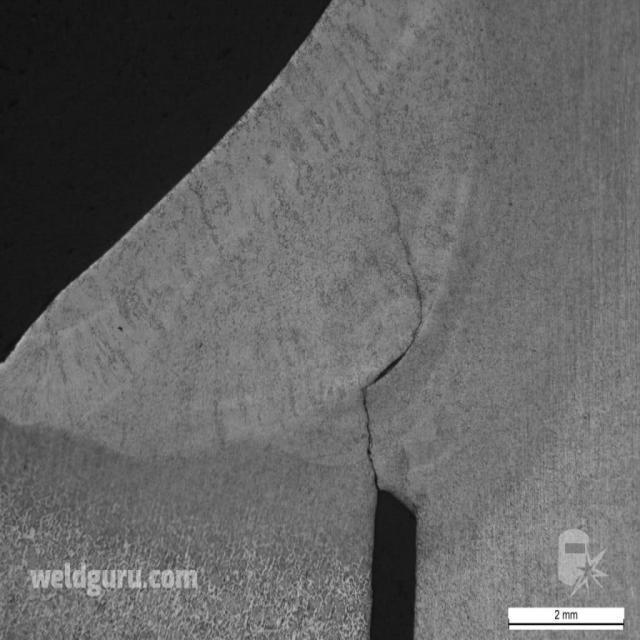defect: (358, 168, 425, 495)
